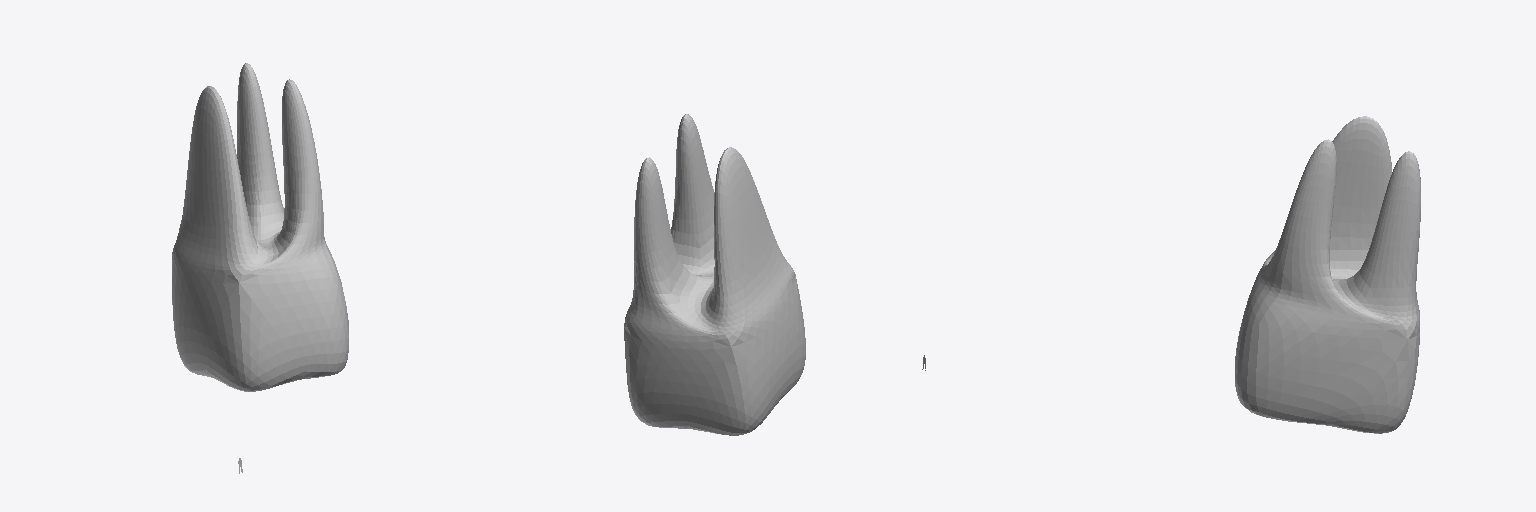
The picture shows the model from 3 angles: view 1: azimuth 30°, elevation 25°; view 2: azimuth 150°, elevation 25°; view 3: azimuth 270°, elevation 25°; orthographic projection.
Visible parts, largest first — view 1: Mesh1 Group1 Model; view 2: Mesh1 Group1 Model; view 3: Mesh1 Group1 Model.
Part boxes in pixels (x1,y1,x2,y2): Mesh1 Group1 Model: (172,63,348,391); Mesh1 Group1 Model: (624,114,805,435); Mesh1 Group1 Model: (1235,116,1420,433).
Bounding box in the file's own units: 20.97 × 32.89 × 29.07.